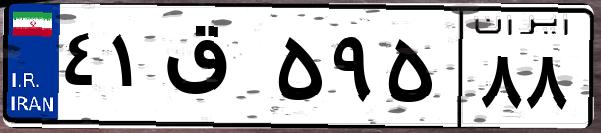1: (110, 28, 158, 98)
4: (57, 26, 110, 100)
5: (270, 28, 330, 110), (385, 28, 445, 110)
8: (475, 38, 525, 113), (525, 38, 570, 115)
9: (330, 28, 385, 110)
ق: (158, 20, 270, 120)
